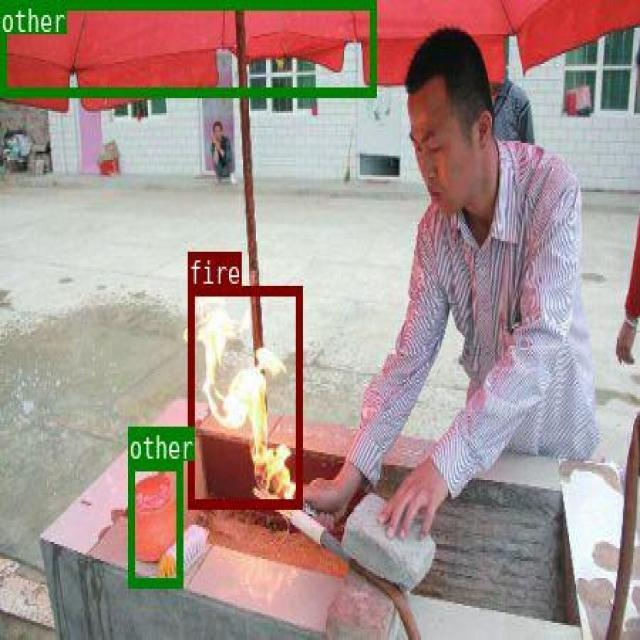fire: (188, 285, 301, 506)
